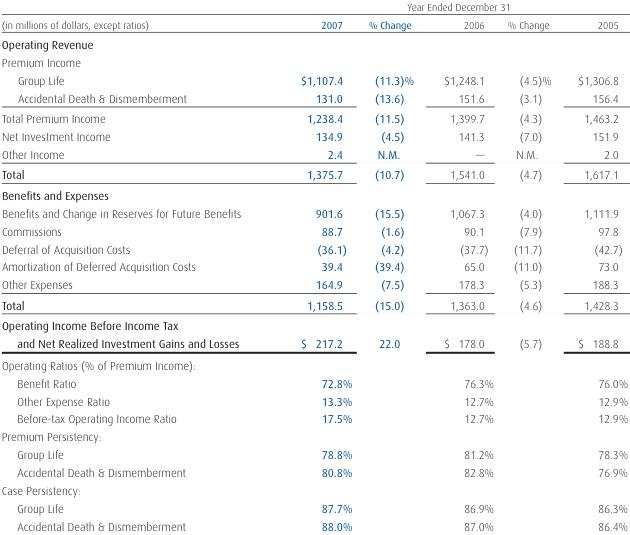table: (0, 0, 627, 532)
table column: (0, 0, 270, 532), (270, 0, 359, 532), (428, 0, 500, 532), (359, 0, 428, 532), (500, 0, 564, 532), (564, 0, 627, 532)
table column header: (0, 0, 627, 33)
table projected row header: (0, 33, 627, 53), (0, 184, 627, 203), (0, 354, 627, 373), (0, 53, 627, 71), (0, 427, 627, 445), (0, 481, 627, 499)
table row: (0, 315, 627, 354), (0, 294, 627, 315), (0, 33, 627, 53), (0, 164, 627, 184), (0, 89, 627, 108), (0, 108, 627, 127), (0, 145, 627, 164), (0, 184, 627, 203), (0, 275, 627, 294), (0, 354, 627, 373), (0, 15, 627, 33), (0, 53, 627, 71), (0, 71, 627, 89), (0, 127, 627, 145), (0, 203, 627, 221), (0, 221, 627, 239), (0, 239, 627, 257), (0, 257, 627, 275), (0, 373, 627, 391), (0, 391, 627, 409), (0, 409, 627, 427), (0, 427, 627, 445), (0, 445, 627, 463), (0, 463, 627, 481), (0, 481, 627, 499), (0, 499, 627, 516), (0, 516, 627, 532), (0, 0, 627, 15)
table spanning cell: (270, 0, 627, 15)
